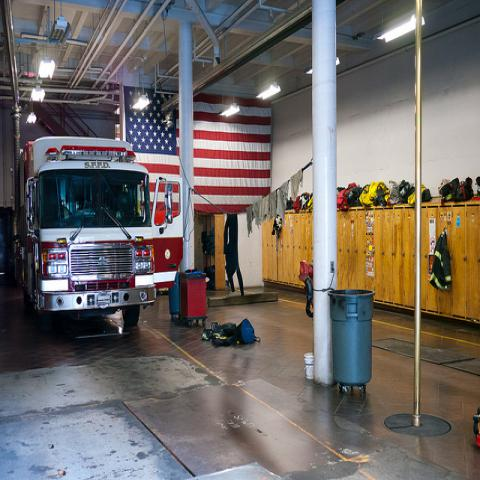truck: (10, 135, 154, 346)
